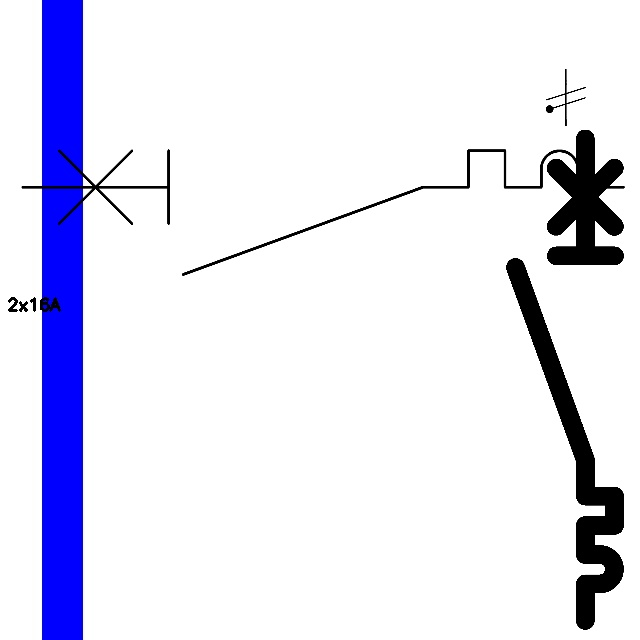interruptor_termomagnetico: (7, 135, 639, 290), (503, 126, 627, 633)
